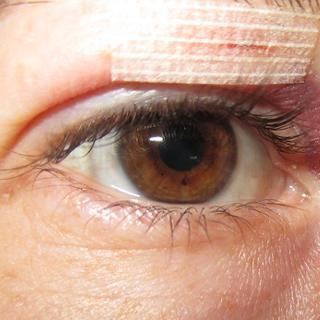pupil: (158, 123, 206, 171)
